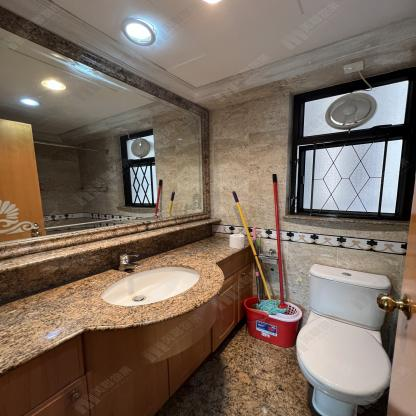Exhaust Fan: (319, 91, 381, 129)
Faucet: (110, 249, 143, 272)
Toilet: (276, 260, 393, 416)
Toilet Sink: (74, 257, 218, 325)
